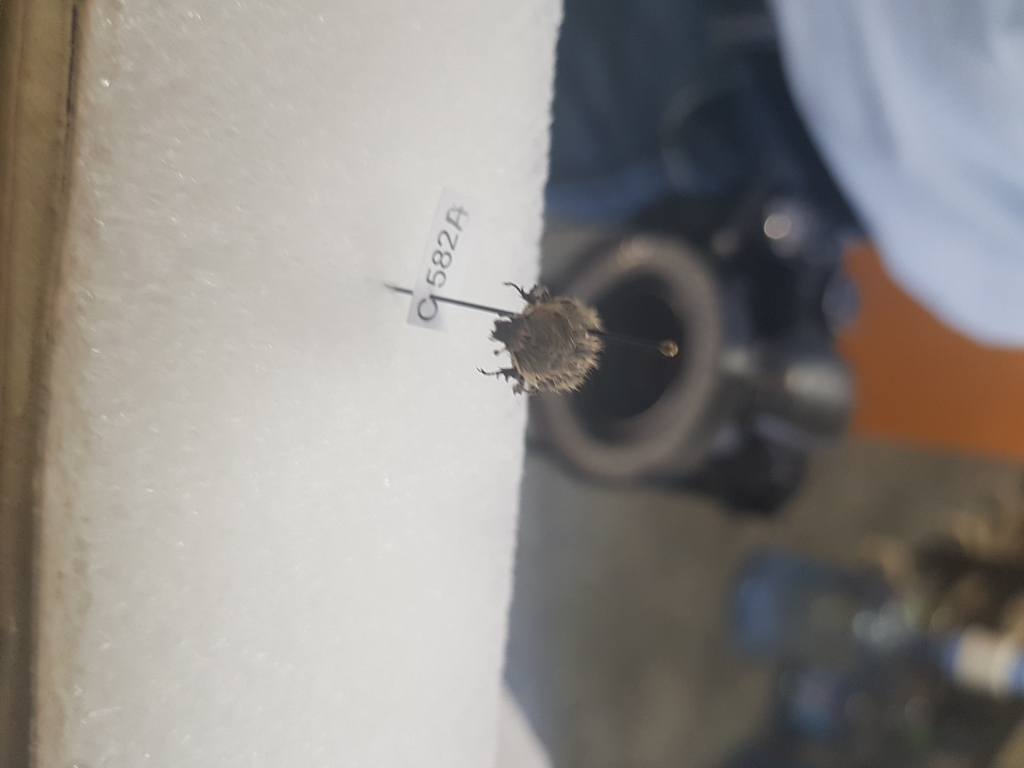Tropinota_hirta: (471, 274, 620, 408)
